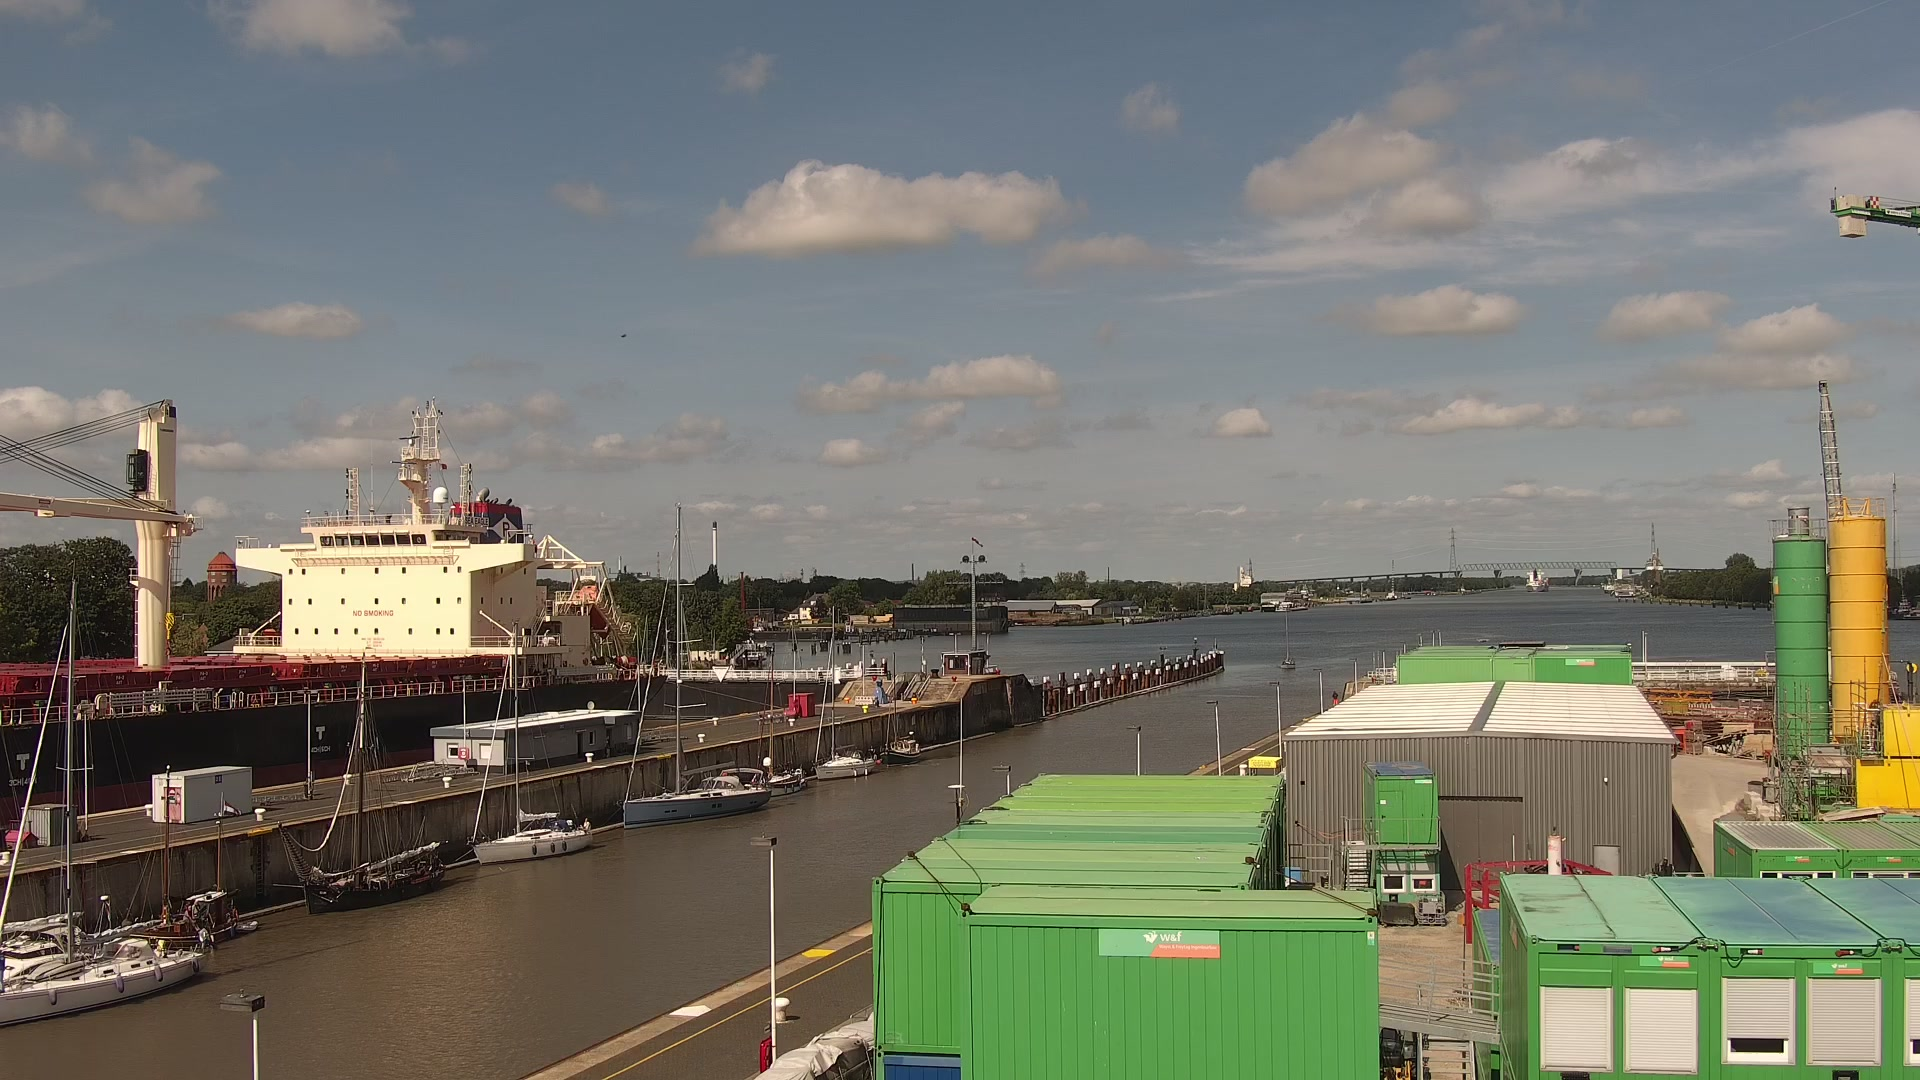human: (1332, 689, 1339, 706)
sea: (1, 395, 668, 819), (1, 641, 207, 1028), (622, 500, 772, 830), (275, 648, 448, 915), (465, 641, 593, 866), (123, 762, 237, 950), (810, 604, 878, 782), (756, 645, 808, 797), (880, 650, 923, 766), (1278, 608, 1297, 669), (1884, 596, 1918, 619), (1524, 567, 1549, 592)
